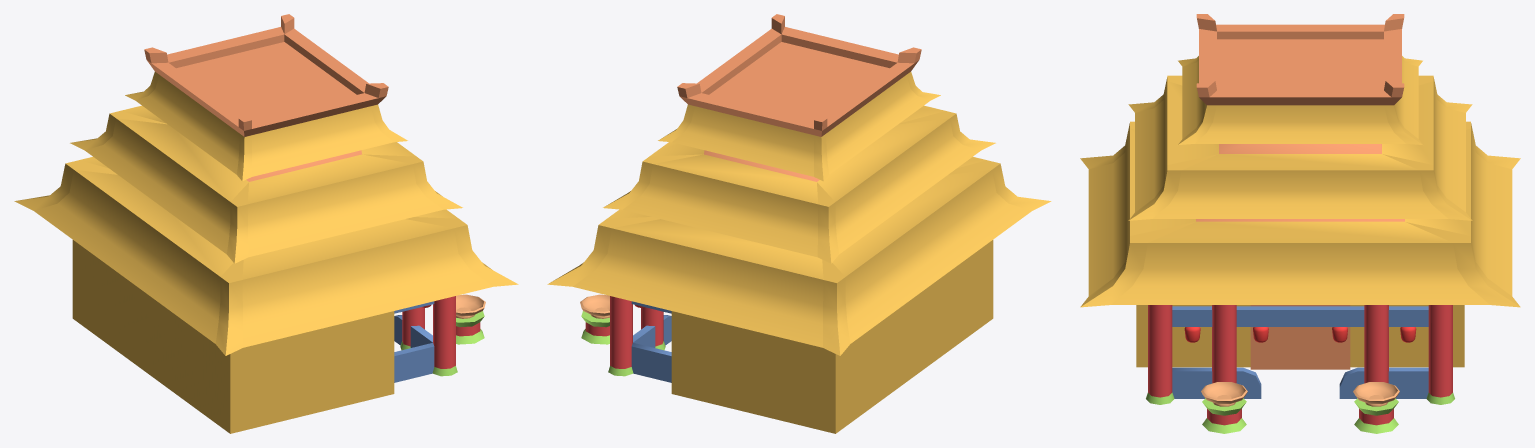
File: temple.fbx
The picture shows the model from 3 angles, left to right: view 1: azimuth 30°, elevation 25°; view 2: azimuth 150°, elevation 25°; view 3: azimuth 270°, elevation 25°; orthographic projection. The views are drawn at different scales.
Parts seen in each view (by area): view 1: Cube; view 2: Cube; view 3: Cube.
Part boxes in pixels (x1,y1,x2,y2): Cube: (14,14,518,433); Cube: (547,14,1051,433); Cube: (1080,14,1520,433).
Size of the model in its own units: 716 by 588 by 805.
